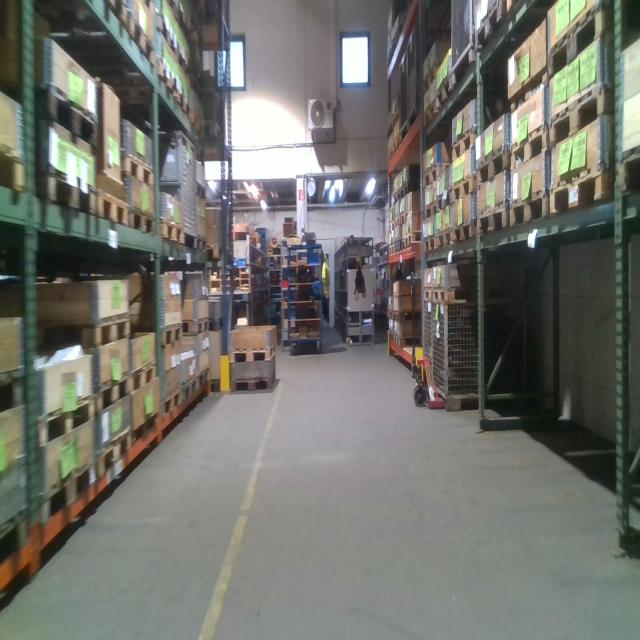pallet: (547, 154, 622, 231), (547, 3, 624, 76), (545, 74, 622, 145), (29, 80, 102, 148), (37, 456, 95, 536), (23, 312, 134, 352), (33, 164, 97, 221), (31, 395, 92, 449), (511, 184, 552, 243), (507, 122, 552, 170), (128, 9, 153, 81), (99, 427, 130, 484), (474, 142, 509, 190), (447, 127, 485, 168), (97, 370, 135, 411), (616, 133, 638, 203), (474, 4, 505, 51), (156, 56, 181, 109), (121, 150, 159, 184), (95, 190, 127, 230), (421, 286, 496, 303), (156, 6, 181, 57), (476, 205, 511, 241), (127, 410, 157, 452), (3, 142, 26, 196), (147, 320, 182, 352), (94, 0, 127, 33), (225, 342, 278, 361), (157, 216, 184, 253), (230, 371, 276, 392), (160, 388, 183, 427), (454, 216, 483, 245), (125, 206, 151, 236), (178, 376, 200, 411), (401, 102, 420, 141), (438, 217, 456, 253), (423, 63, 450, 87), (181, 318, 211, 338), (132, 361, 153, 388), (455, 173, 475, 201), (180, 80, 193, 121), (421, 165, 442, 188), (421, 232, 438, 259), (403, 233, 428, 251), (436, 84, 447, 121), (392, 336, 423, 348), (420, 201, 437, 221), (424, 101, 437, 127), (401, 210, 422, 223), (392, 311, 421, 320), (196, 237, 210, 254), (508, 0, 531, 6), (400, 185, 409, 199), (388, 244, 395, 255), (395, 240, 401, 251), (395, 217, 401, 227), (386, 312, 392, 319)
pallet_truck: (406, 267, 449, 411)
stillage: (431, 297, 532, 413), (157, 128, 199, 250), (449, 1, 476, 90), (201, 86, 227, 140), (422, 297, 432, 392)
